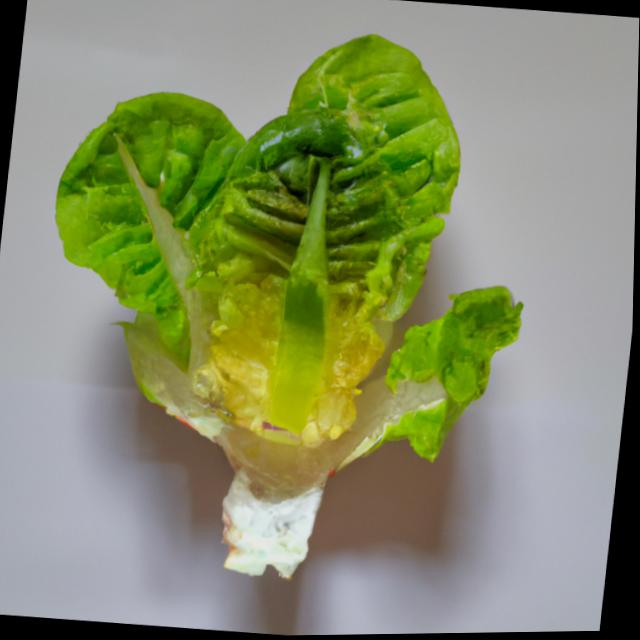-N: (6, 0, 561, 614)
